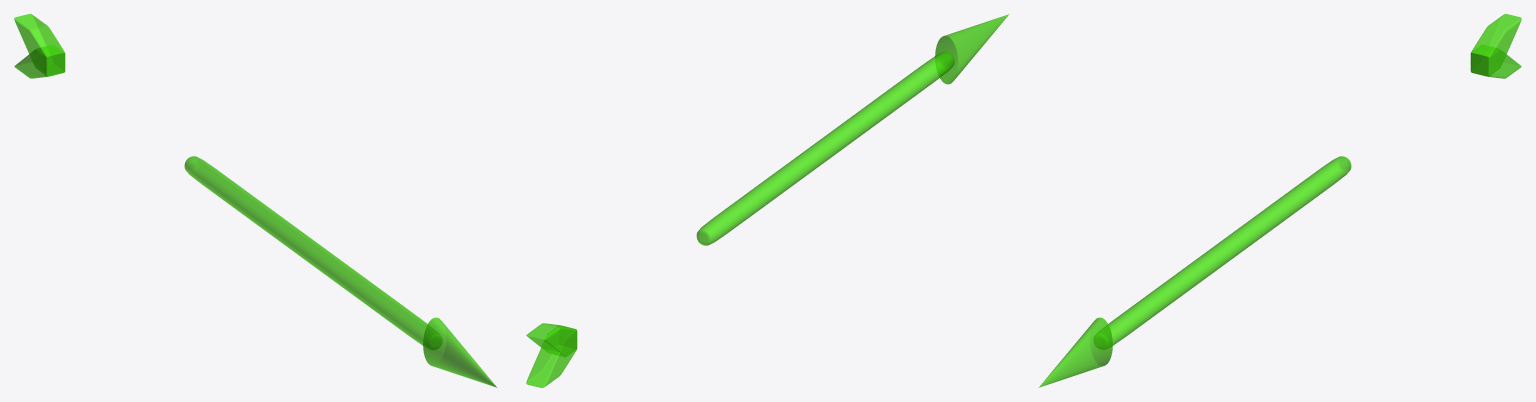
3 views of the same model, side by side, from view 1: azimuth 30°, elevation 25°; view 2: azimuth 150°, elevation 25°; view 3: azimuth 330°, elevation 25° (orthographic).
Parts seen in each view (by area): view 1: Cube, 立方体, 円錐; view 2: Cube, 立方体, 円錐; view 3: Cube, 立方体, 円錐.
Part boxes in pixels (left/top/right/bottom): Cube: left=184, top=156, right=442, bottom=349; 立方体: left=14, top=14, right=65, bottom=78; 円錐: left=423, top=317, right=497, bottom=387; Cube: left=696, top=52, right=954, bottom=245; 立方体: left=526, top=323, right=577, bottom=387; 円錐: left=935, top=14, right=1009, bottom=84; Cube: left=1093, top=156, right=1351, bottom=349; 立方体: left=1470, top=14, right=1521, bottom=78; 円錐: left=1038, top=317, right=1112, bottom=387.
Bounding box in the file's own units: 7.22 × 14.58 × 256.
